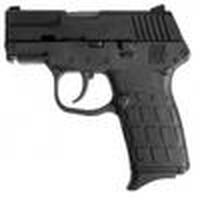gun: (4, 1, 200, 156)
